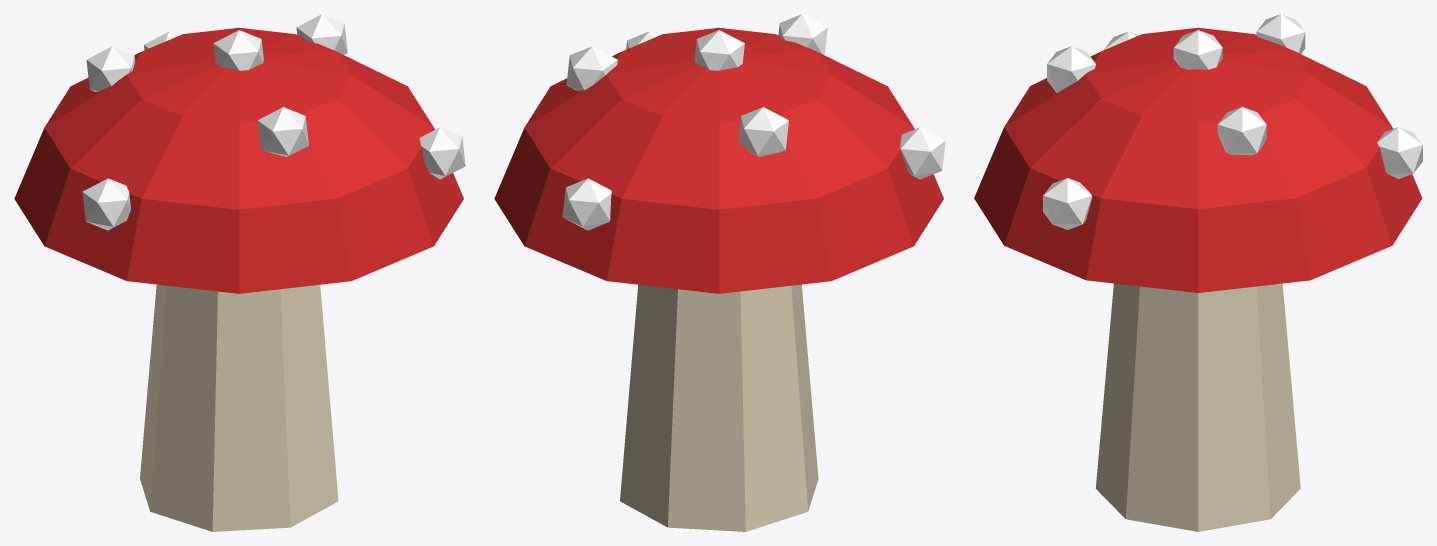
File: toadstool.glb
3 renders of one model, left to right at view 1: azimuth 30°, elevation 25°; view 2: azimuth 150°, elevation 25°; view 3: azimuth 270°, elevation 25°, orthographic.
Parts seen in each view (by area): view 1: Toadstool; view 2: Toadstool; view 3: Toadstool.
Boxes of the visible parts, x1,y1,x2,y2 form: Toadstool: (14,14,465,531); Toadstool: (494,14,945,531); Toadstool: (974,14,1422,531).
Size of the model in its own units: 1.4 by 1.58 by 1.4.
